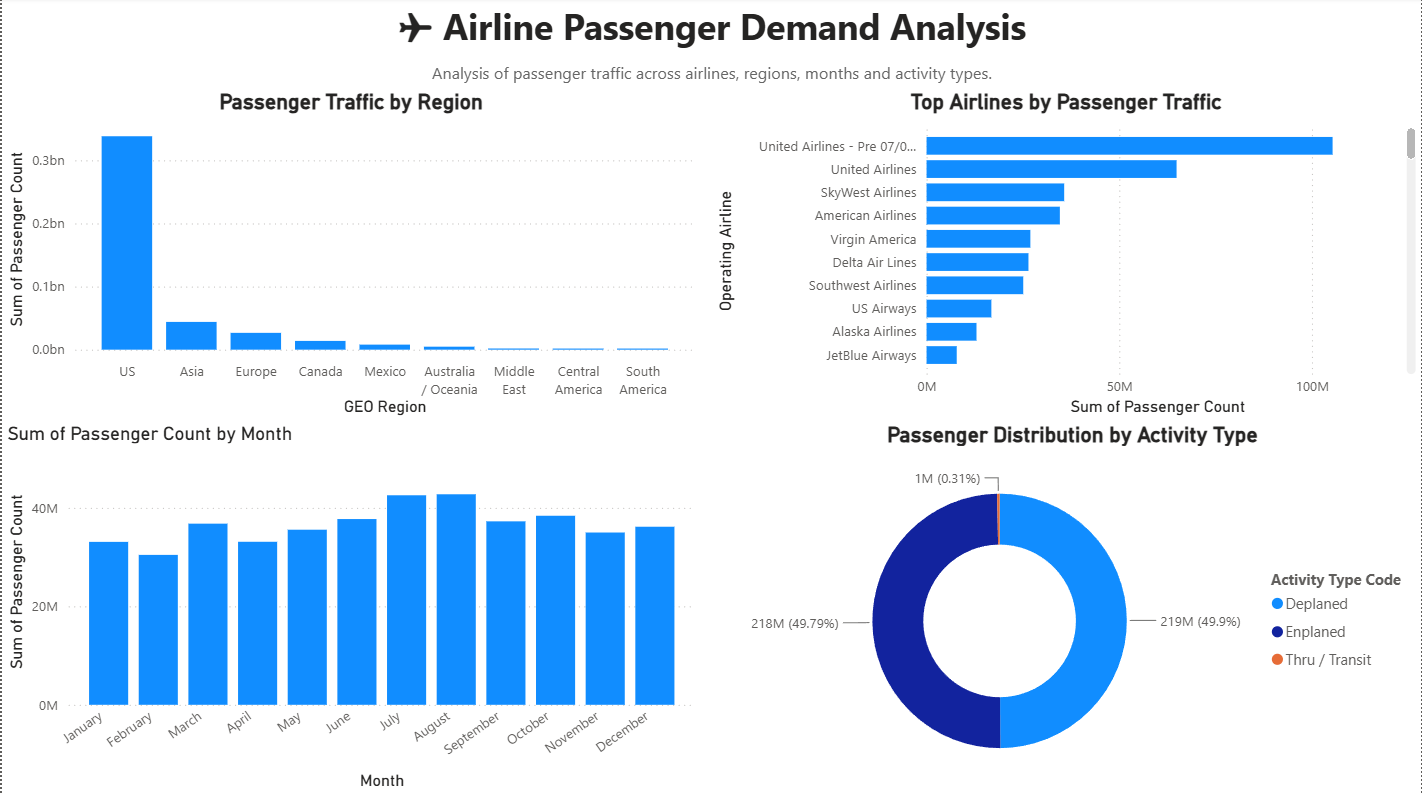

The page's visual inventory and layout, read from the dashboard file:
{"tool":"powerbi","page":{"name":"Demand Dashboard","canvas":[1280,720],"ordinal":0},"visuals":[{"type":"clusteredBarChart","title":"Top Airlines by Passenger Traffic","fields":{"Category":["Air_Traffic_Passenger_Statistics.Operating Airline"],"Y":["Sum(Air_Traffic_Passenger_Statistics.Passenger Count)"]},"box":[639.5,83.2,640.8,299.6],"z":0},{"type":"clusteredColumnChart","title":"Passenger Traffic by Region","fields":{"Category":["Air_Traffic_Passenger_Statistics.GEO Region"],"Y":["Sum(Air_Traffic_Passenger_Statistics.Passenger Count)"]},"box":[0,83.2,629.8,299.6],"z":1},{"type":"donutChart","title":"Passenger Distribution by Activity Type","fields":{"Category":["Air_Traffic_Passenger_Statistics.Activity Type Code"],"Y":["Sum(Air_Traffic_Passenger_Statistics.Passenger Count)"]},"box":[650.5,382.7,629.8,337.5],"z":3},{"type":"textbox","box":[0,0,1280.3,52.6],"z":4},{"type":"textbox","box":[0,52.6,1280.3,30.6],"z":5},{"type":"clusteredColumnChart","fields":{"Category":["Air_Traffic_Passenger_Statistics.Month"],"Y":["Sum(Air_Traffic_Passenger_Statistics.Passenger Count)"]},"box":[0,383,630,337],"z":6}]}

Visuals, with their boxes in screenshot pixels (x1, y1, x2, y2), scaled from the page's 1280x720 canvas onto the 1422x795 screenshot:
"Top Airlines by Passenger Traffic" clusteredBarChart: [x1=710, y1=92, x2=1421, y2=423]
"Passenger Traffic by Region" clusteredColumnChart: [x1=0, y1=92, x2=700, y2=423]
"Passenger Distribution by Activity Type" donutChart: [x1=723, y1=423, x2=1421, y2=794]
textbox: [x1=0, y1=0, x2=1421, y2=58]
textbox: [x1=0, y1=58, x2=1421, y2=92]
clusteredColumnChart - Air_Traffic_Passenger_Statistics.Month x Sum(Air_Traffic_Passenger_Statistics.Passenger Count): [x1=0, y1=423, x2=700, y2=794]
